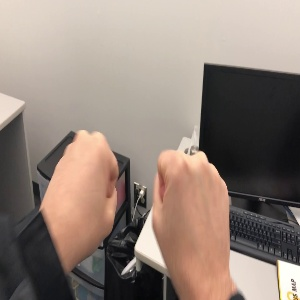hand: (153, 151, 229, 265), (44, 129, 117, 244)
